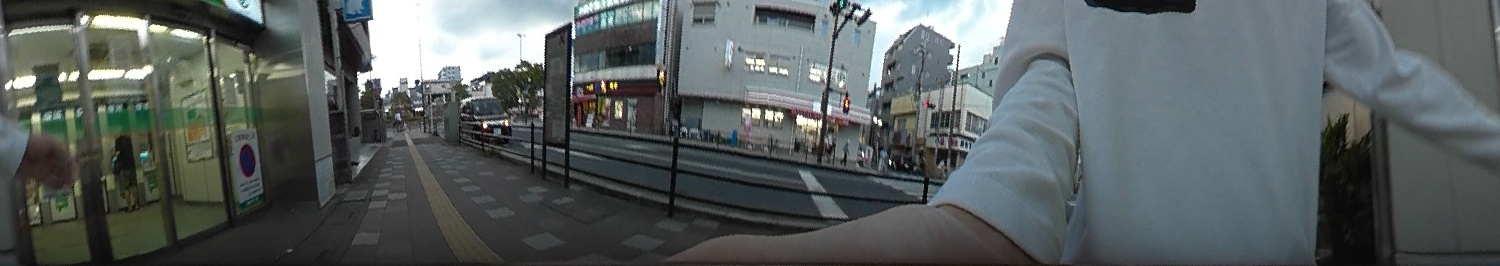difficult_person: (840, 135, 854, 166), (390, 105, 404, 133)
person: (108, 123, 145, 210)
